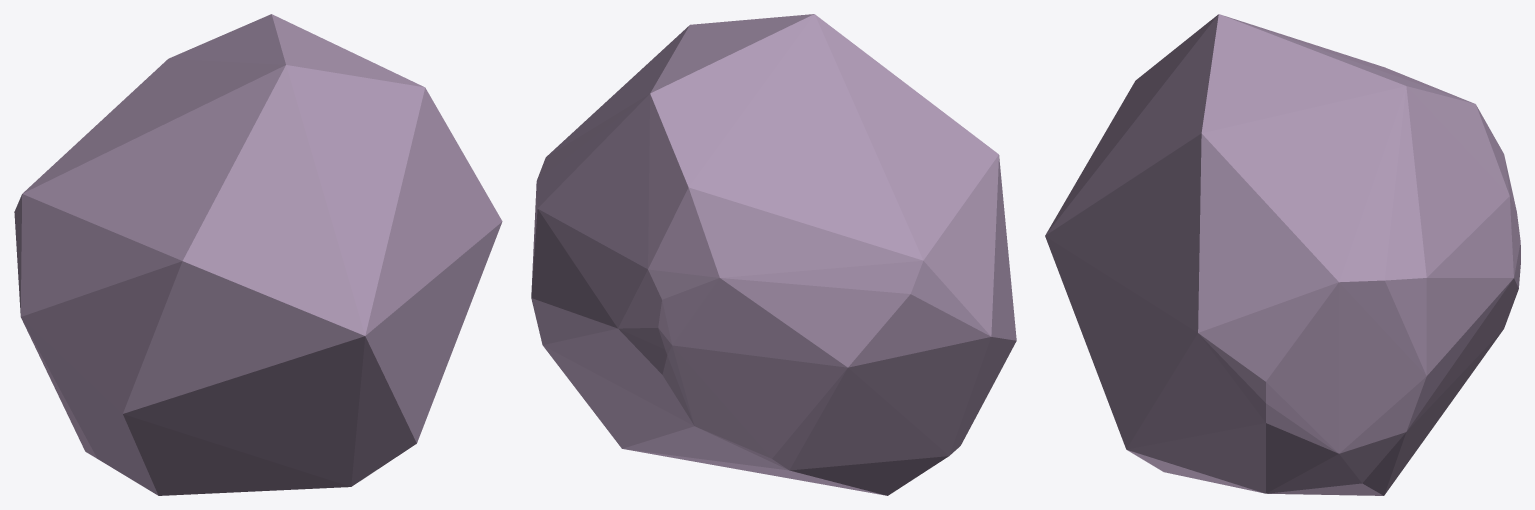
Rendered from food_produce_tomato_h01.glb.
3 views of the same model, side by side, from view 1: azimuth 30°, elevation 25°; view 2: azimuth 150°, elevation 25°; view 3: azimuth 270°, elevation 25° (orthographic). The views are drawn at different scales.
Visible parts, largest first — view 1: geometry_0; view 2: geometry_0; view 3: geometry_0.
Boxes of the visible parts, x1,y1,x2,y2 form: geometry_0: (14,14,502,495); geometry_0: (531,14,1016,495); geometry_0: (1045,14,1520,495).
Size of the model in its own units: 0.4779 by 0.4277 by 0.4203.
